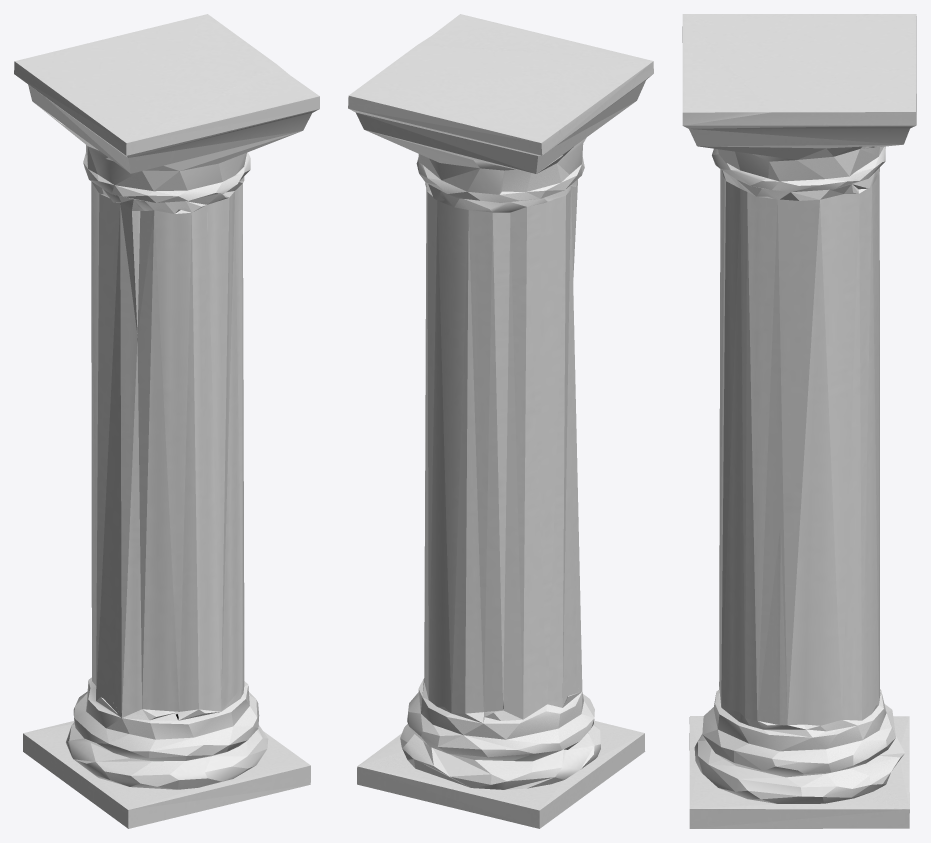
The model's file is columna.fbx.
3 renders of one model, left to right at view 1: azimuth 30°, elevation 25°; view 2: azimuth 150°, elevation 25°; view 3: azimuth 270°, elevation 25°, orthographic. The views are drawn at different scales.
Parts seen in each view (by area): view 1: columna; view 2: columna; view 3: columna.
Boxes of the visible parts, bbox=[...] form: columna: bbox=[14, 14, 319, 828]; columna: bbox=[348, 14, 653, 828]; columna: bbox=[682, 14, 916, 828].
Bounding box in the file's own units: 1.47 × 5 × 1.47.
1 material, 1 textured.
